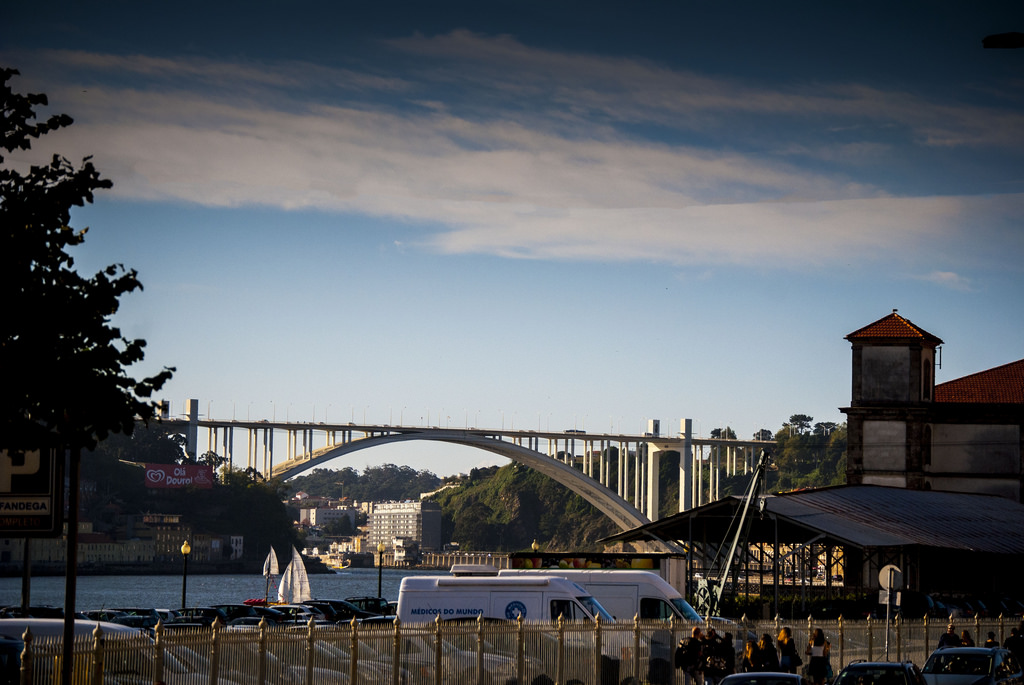arrabida: (133, 396, 780, 536)
